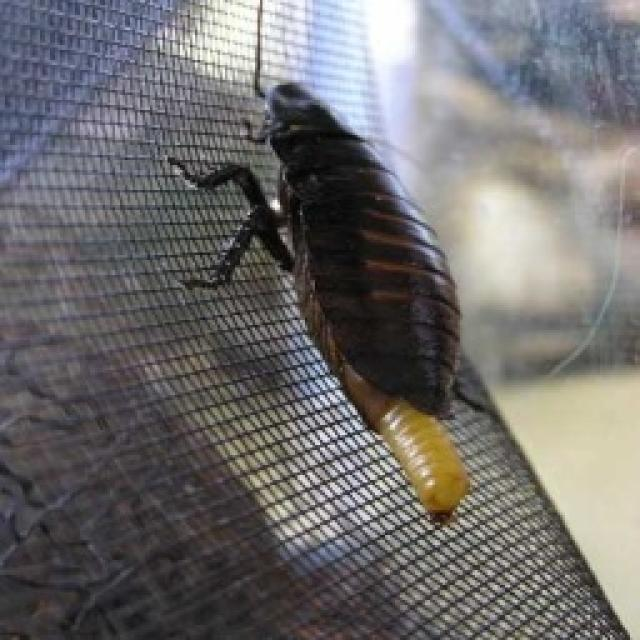cockroach: (164, 77, 489, 529)
